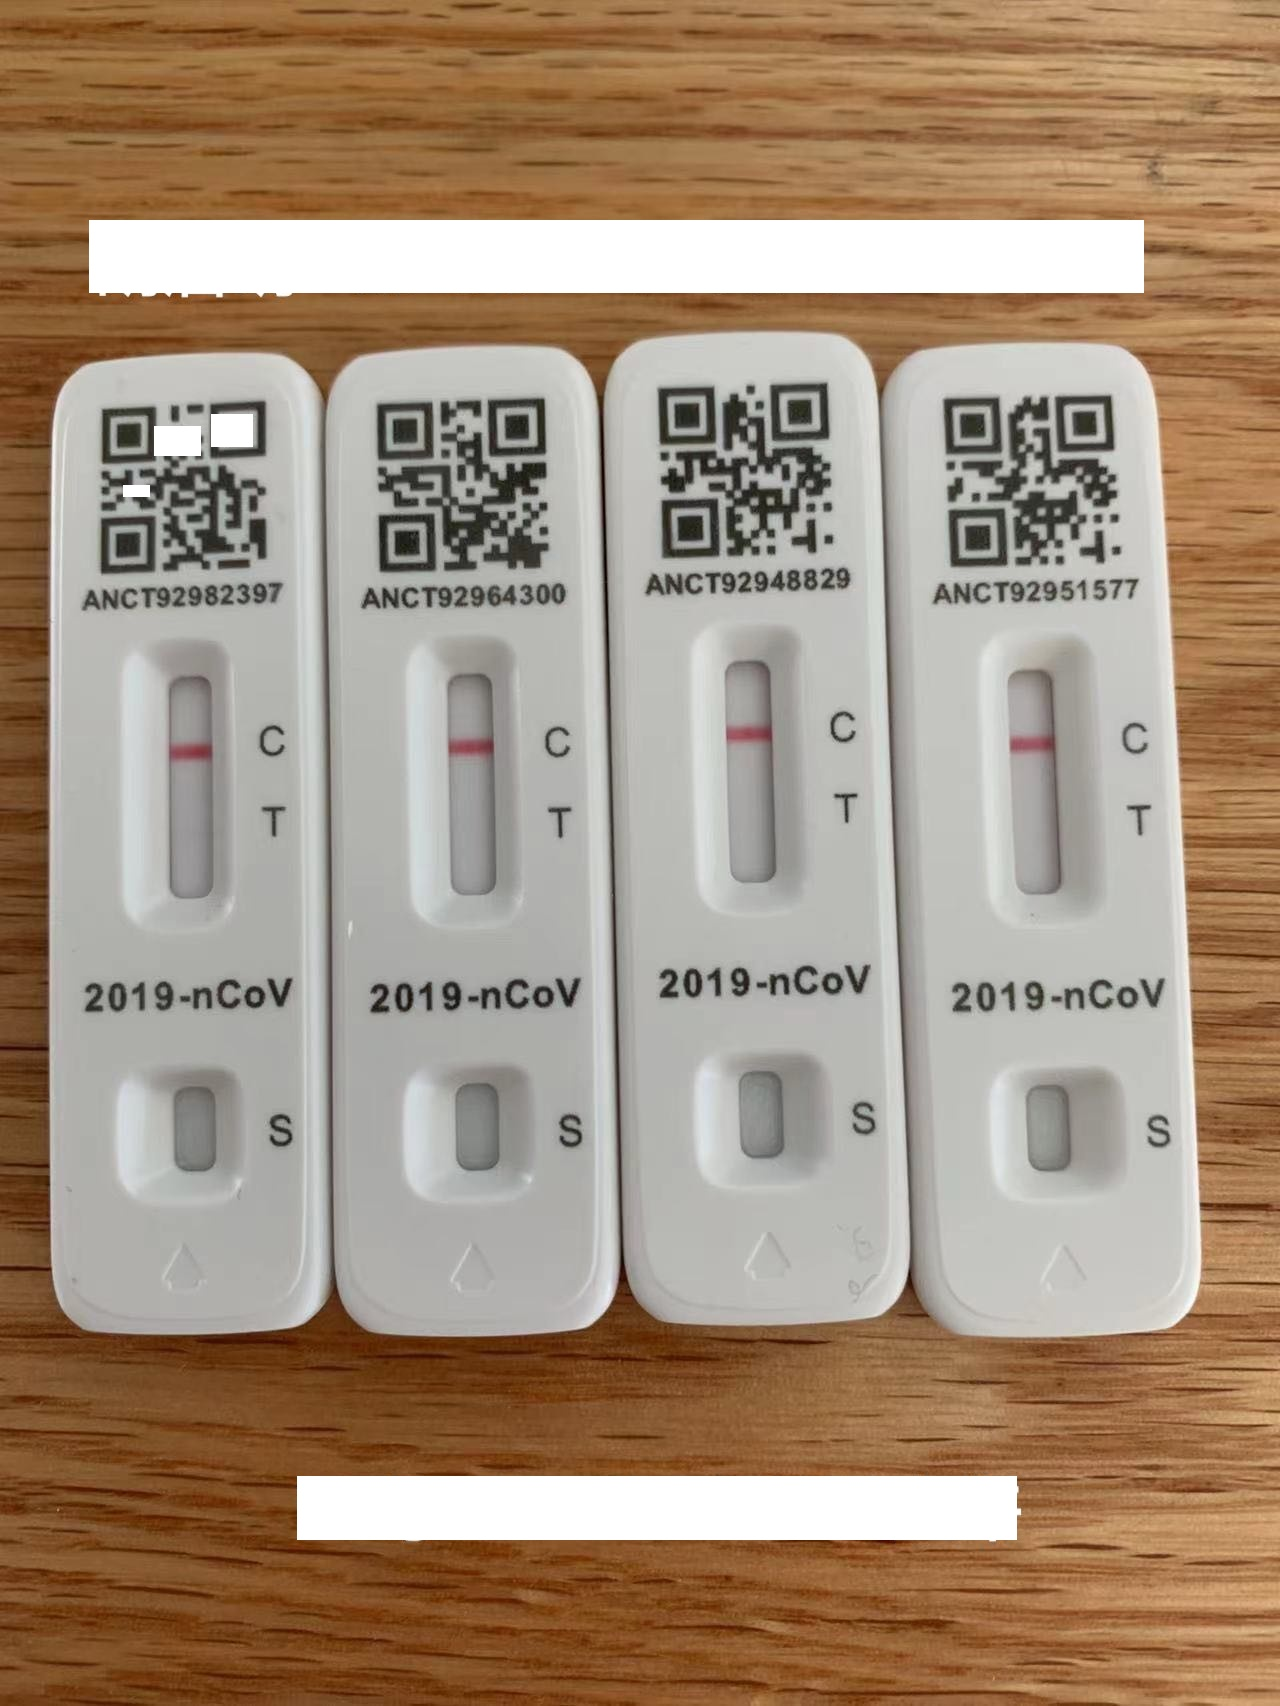negative: (116, 641, 237, 944), (405, 636, 524, 938), (982, 636, 1101, 929), (696, 621, 809, 920)
